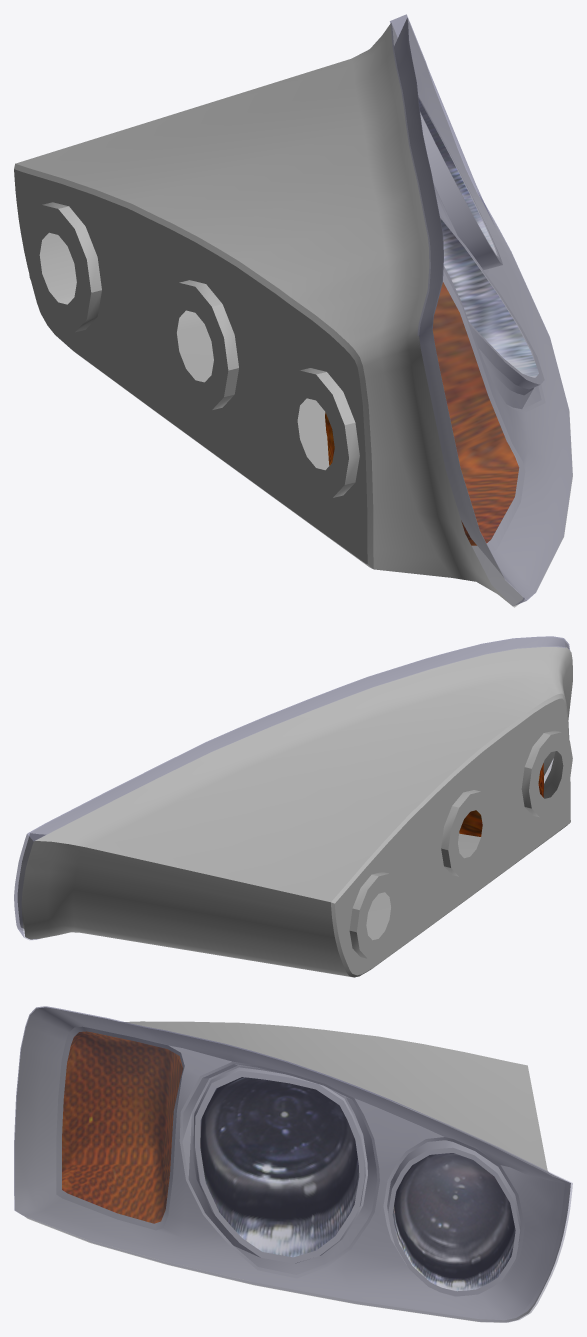
The picture shows the model from 3 angles, top to bottom: view 1: azimuth 30°, elevation 25°; view 2: azimuth 150°, elevation 25°; view 3: azimuth 270°, elevation 25°; orthographic projection. The views are drawn at different scales.
Parts seen in each view (by area): view 1: E232_061B_R_E232_061B_R_4_DaS, E232_061B_R_E232_061B_R_5_DTaSI, E232_061B_R_1_N_E232_061B_R, E232_061B_R_E232_061B_R_2_N, E232_061B_R_E232_061B_R_3_N; view 2: E232_061B_R_E232_061B_R_4_DaS, E232_061B_R_E232_061B_R_5_DTaSI, E232_061B_R_1_N_E232_061B_R; view 3: E232_061B_R_E232_061B_R_5_DTaSI, E232_061B_R_E232_061B_R_4_DaS, E232_061B_R_E232_061B_R_2_N, E232_061B_R_1_N_E232_061B_R, E232_061B_R_E232_061B_R_3_N.
Part boxes in pixels (x1,y1,x2,y2): E232_061B_R_E232_061B_R_4_DaS: (14,18,572,607); E232_061B_R_E232_061B_R_5_DTaSI: (390,14,572,605); E232_061B_R_1_N_E232_061B_R: (325,282,518,545); E232_061B_R_E232_061B_R_2_N: (440,218,538,377); E232_061B_R_E232_061B_R_3_N: (418,99,497,255); E232_061B_R_E232_061B_R_4_DaS: (17,637,572,977); E232_061B_R_E232_061B_R_5_DTaSI: (14,636,570,939); E232_061B_R_1_N_E232_061B_R: (459,763,543,836); E232_061B_R_E232_061B_R_5_DTaSI: (14,1006,572,1322); E232_061B_R_E232_061B_R_4_DaS: (14,1007,570,1322); E232_061B_R_E232_061B_R_2_N: (200,1077,359,1257); E232_061B_R_1_N_E232_061B_R: (62,1031,182,1223); E232_061B_R_E232_061B_R_3_N: (392,1153,515,1291).
Bounding box in the file's own units: 30.13 × 18.21 × 46.95.
